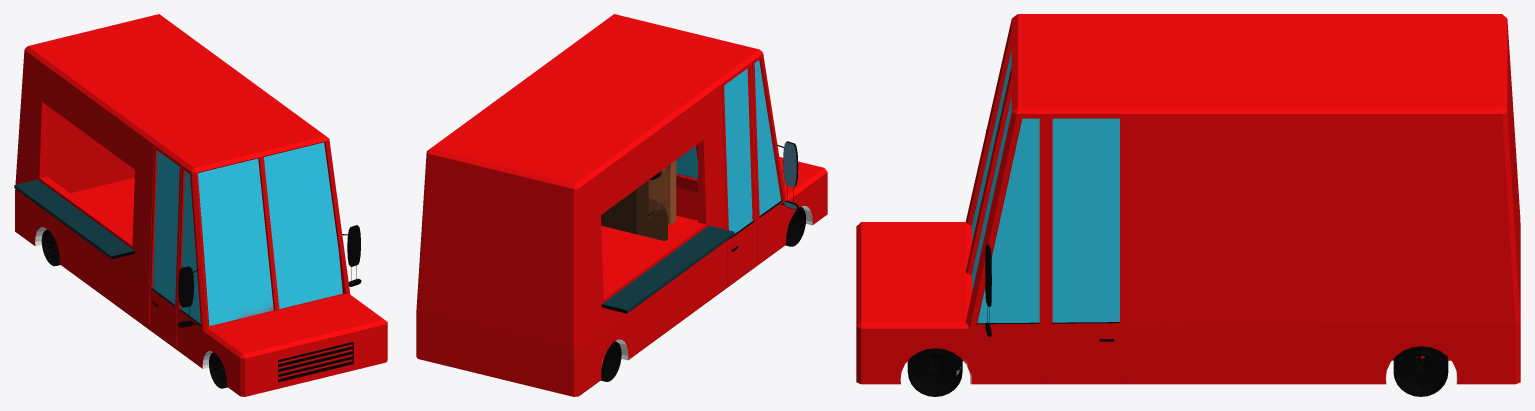
Rendered from food_truck_v3.glb.
The picture shows the model from 3 angles, left to right: view 1: azimuth 30°, elevation 25°; view 2: azimuth 150°, elevation 25°; view 3: azimuth 270°, elevation 25°; orthographic projection. The views are drawn at different scales.
Parts seen in each view (by area): view 1: Cube; view 2: Cube, Steering Wheel; view 3: Cube.
Boxes of the visible parts, bbox=[...] form: Cube: bbox=[14, 14, 387, 396]; Cube: bbox=[416, 14, 827, 396]; Steering Wheel: bbox=[601, 160, 676, 240]; Cube: bbox=[856, 14, 1520, 396].
Size of what is drawn, in the model's own units: 3.78 by 3.81 by 8.
2 materials, 2 textured.
